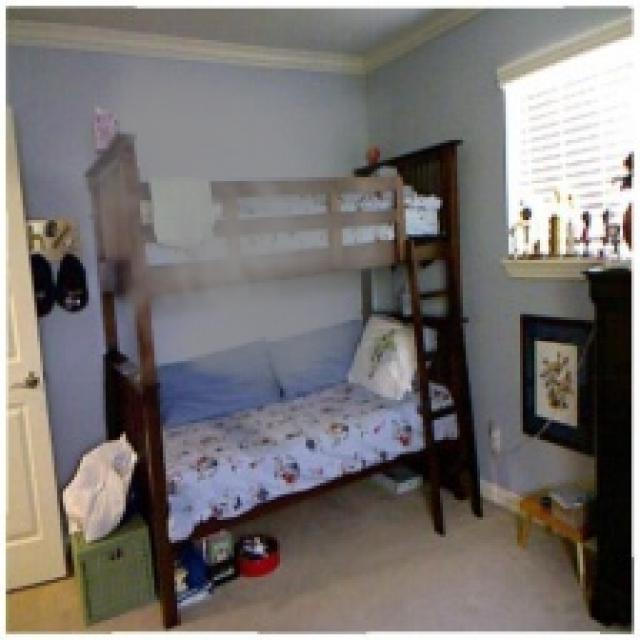smoke: (43, 54, 391, 397)
